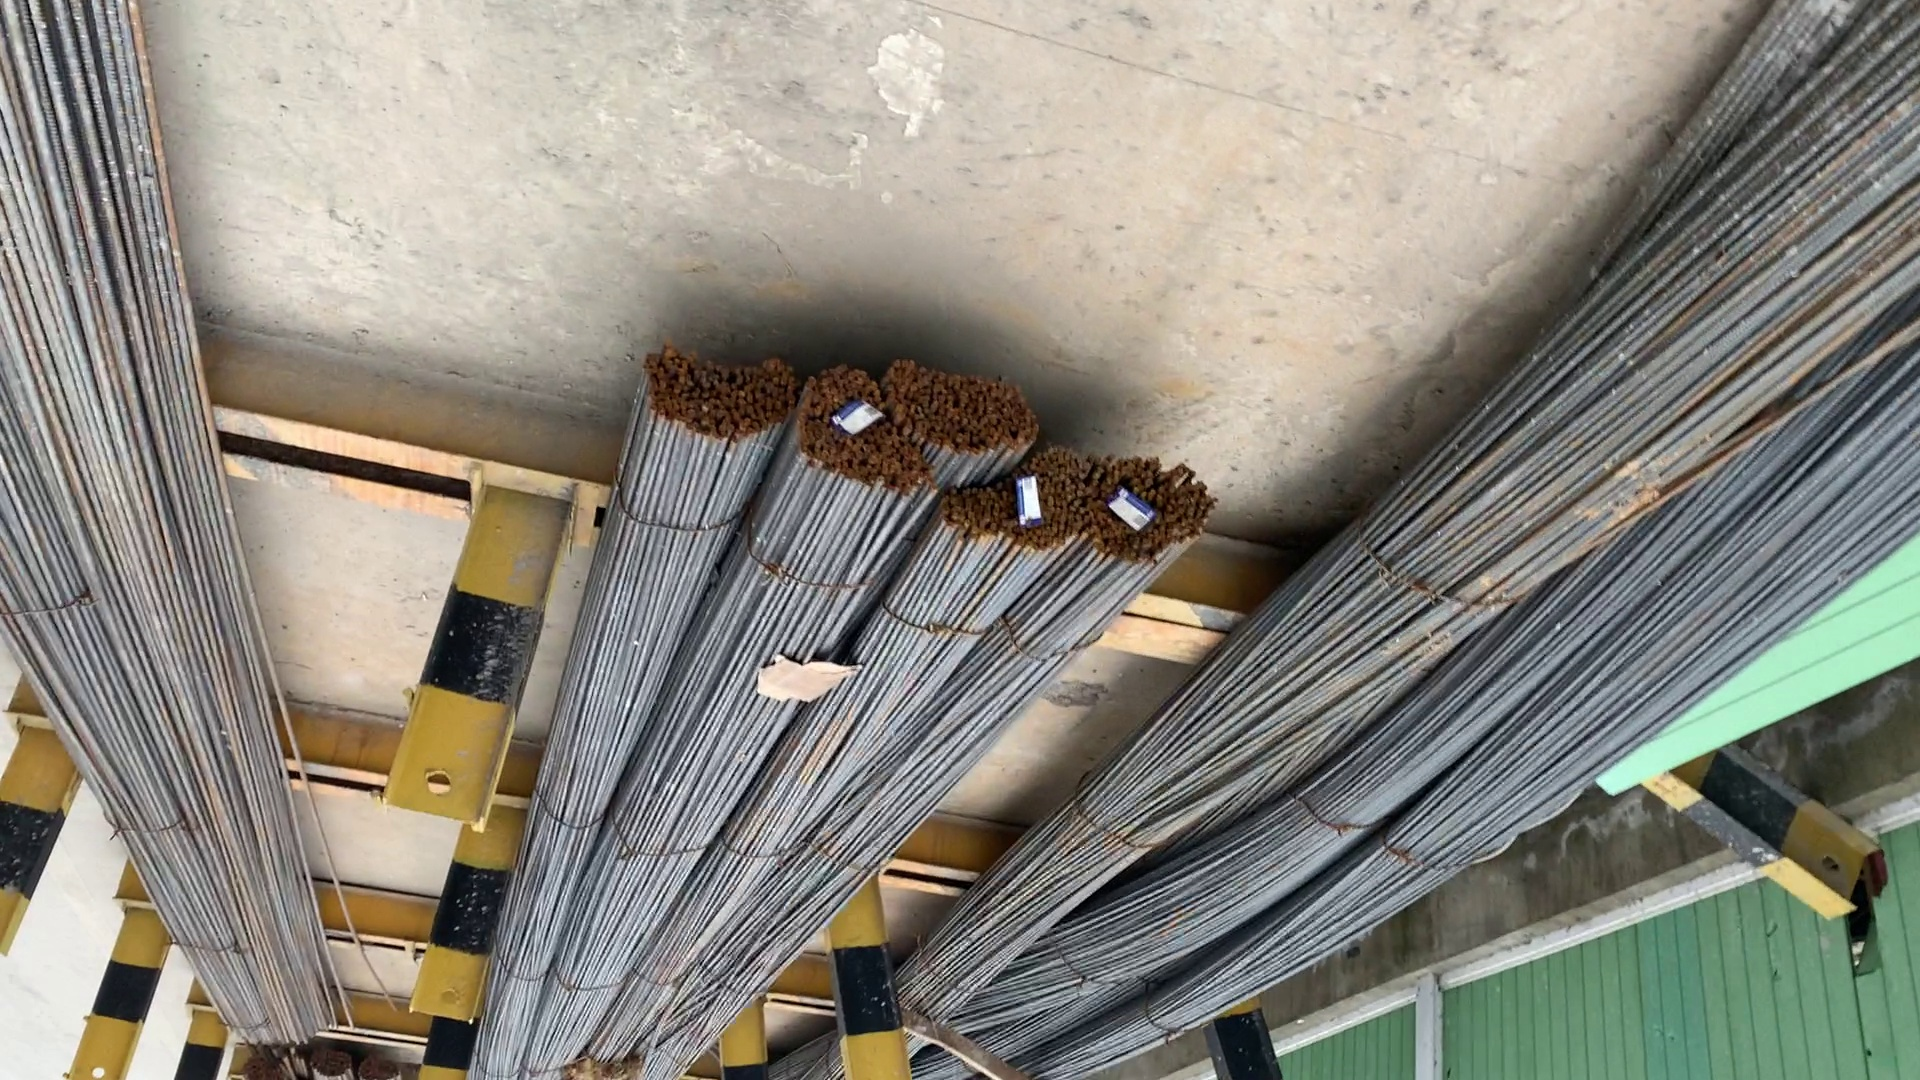rebar: (800, 369, 919, 506), (641, 342, 796, 443), (952, 452, 1087, 554), (895, 357, 1029, 458), (1092, 465, 1220, 558)
